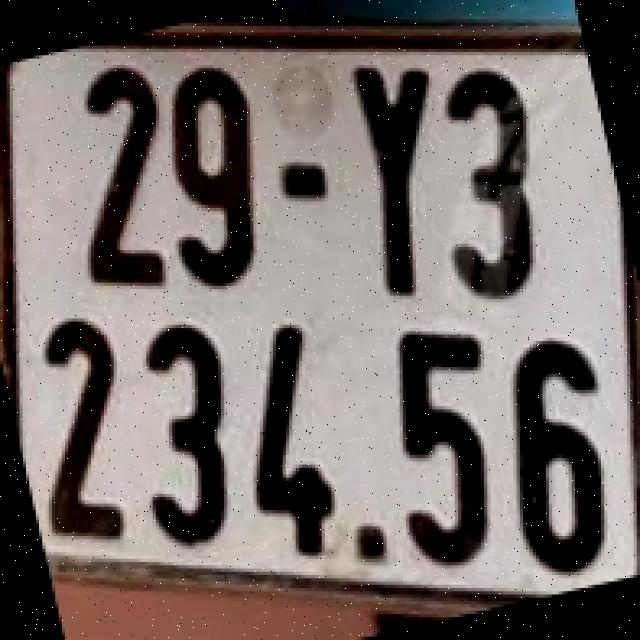2: (40, 318, 132, 542), (80, 64, 167, 288)
3: (443, 70, 541, 300), (142, 323, 232, 548)
4: (248, 322, 342, 558)
5: (392, 322, 492, 572)
6: (510, 332, 608, 578)
9: (170, 62, 262, 289)
Y: (351, 62, 432, 296)
